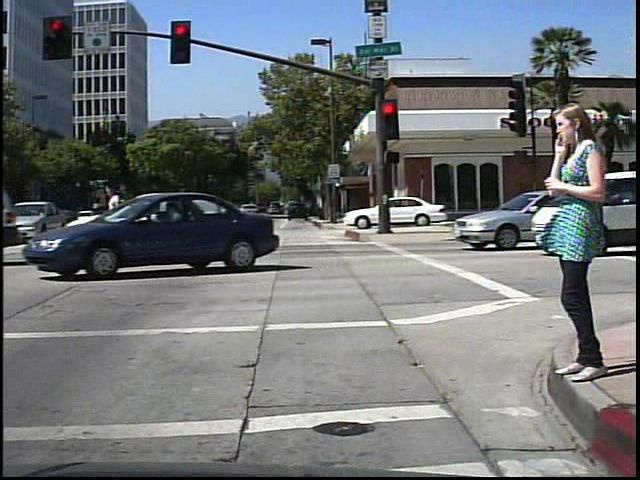person: (542, 94, 608, 394)
